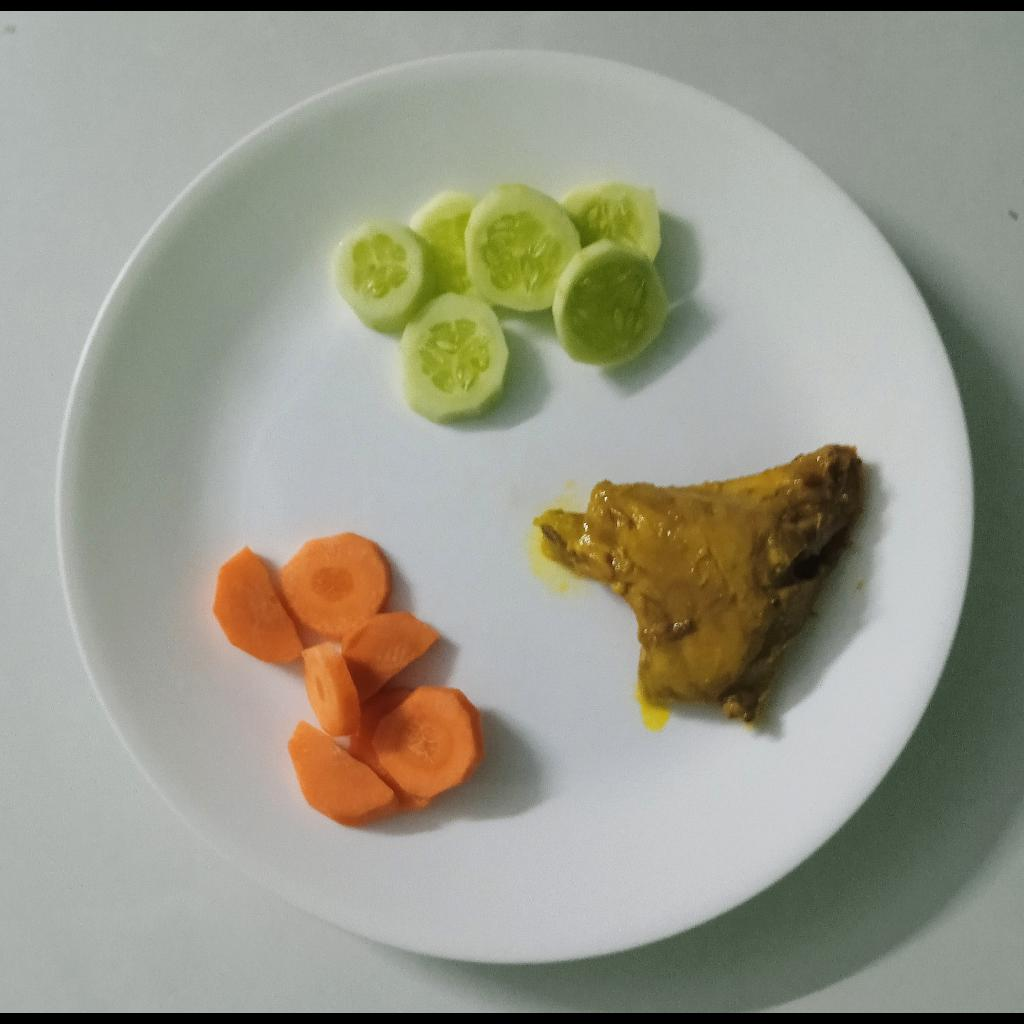carrot: (212, 532, 485, 829)
chicken: (537, 441, 867, 727)
cucumber: (327, 179, 676, 426)
